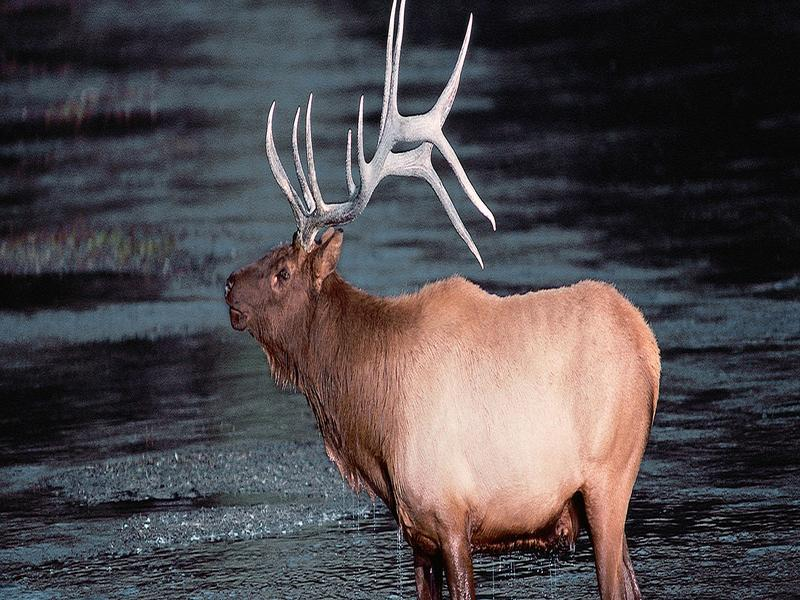elk: (223, 43, 663, 600)
